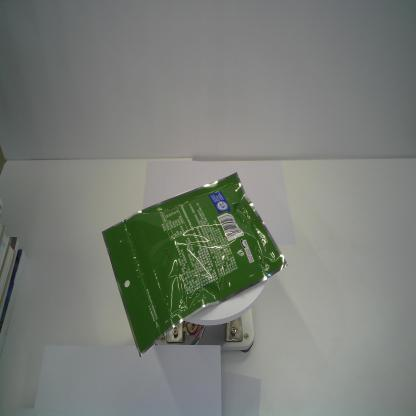Dried Fruit: (100, 169, 291, 361)
